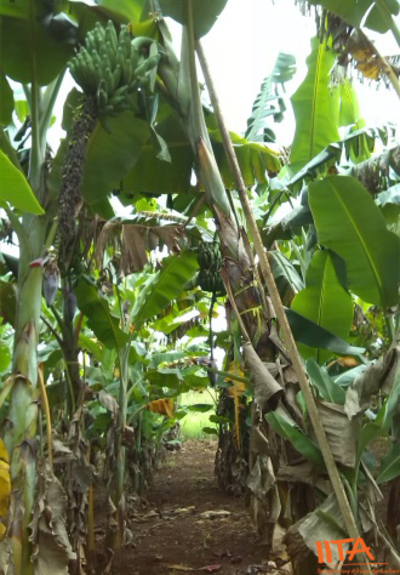bananaHand: (64, 19, 165, 120)
